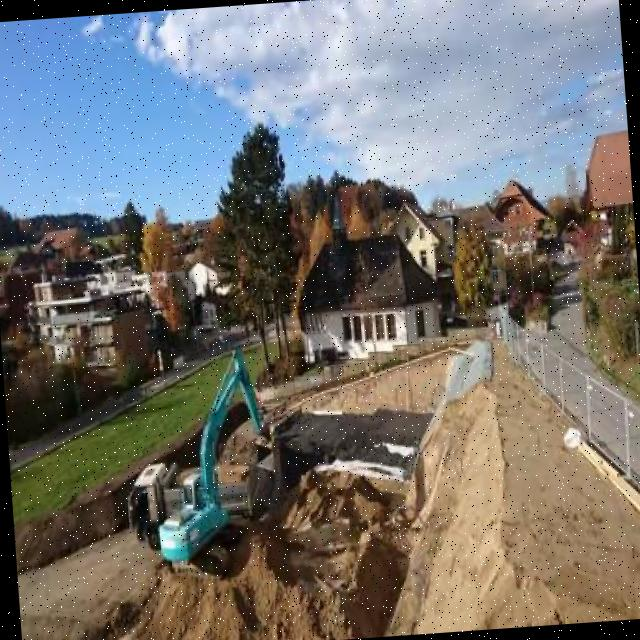Dump Truck: (123, 452, 264, 554)
Excavator: (138, 343, 288, 583)
